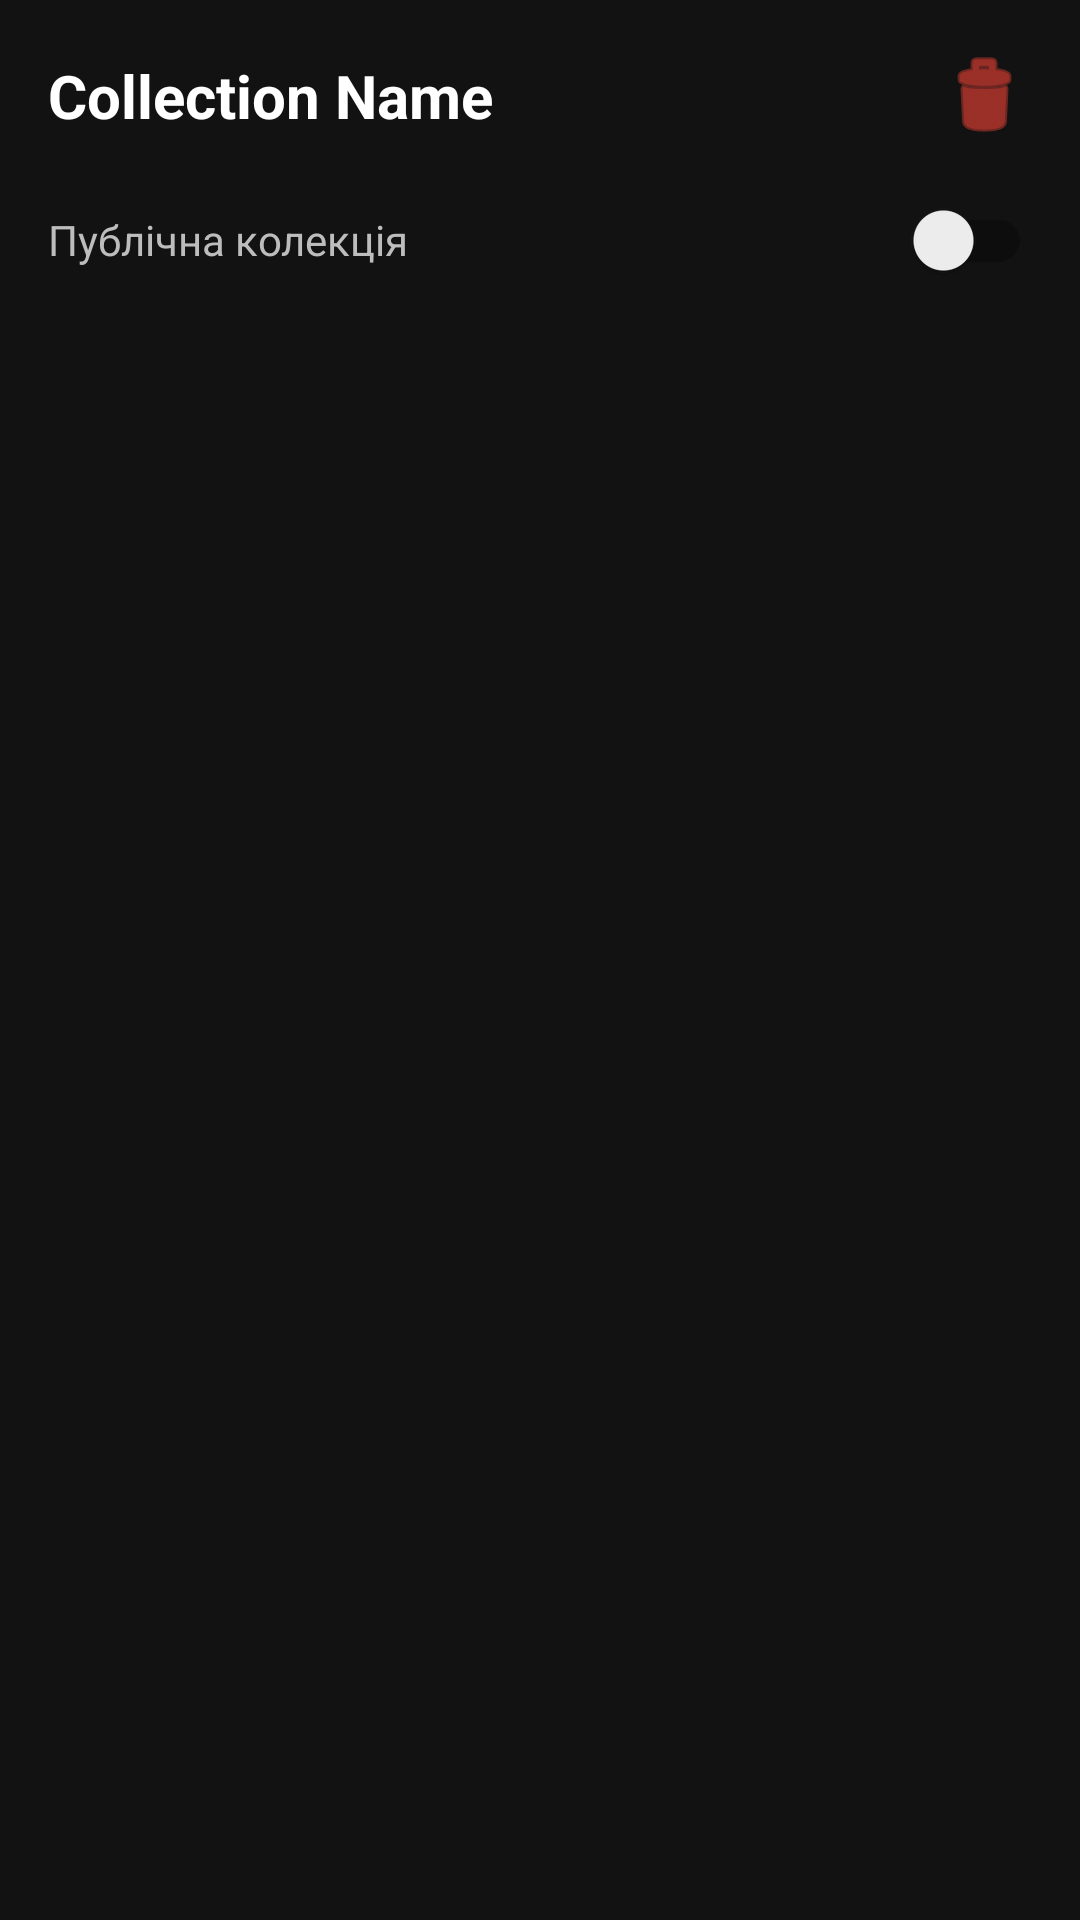

Screen size 1080×1920. Icon name, then its center in pixels as (x=x, y=y):
delete: (x=984, y=94)
